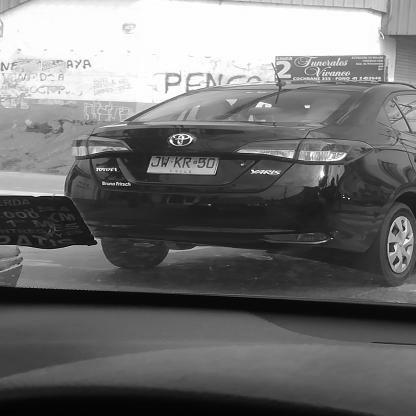Patente: (143, 154, 222, 179)
